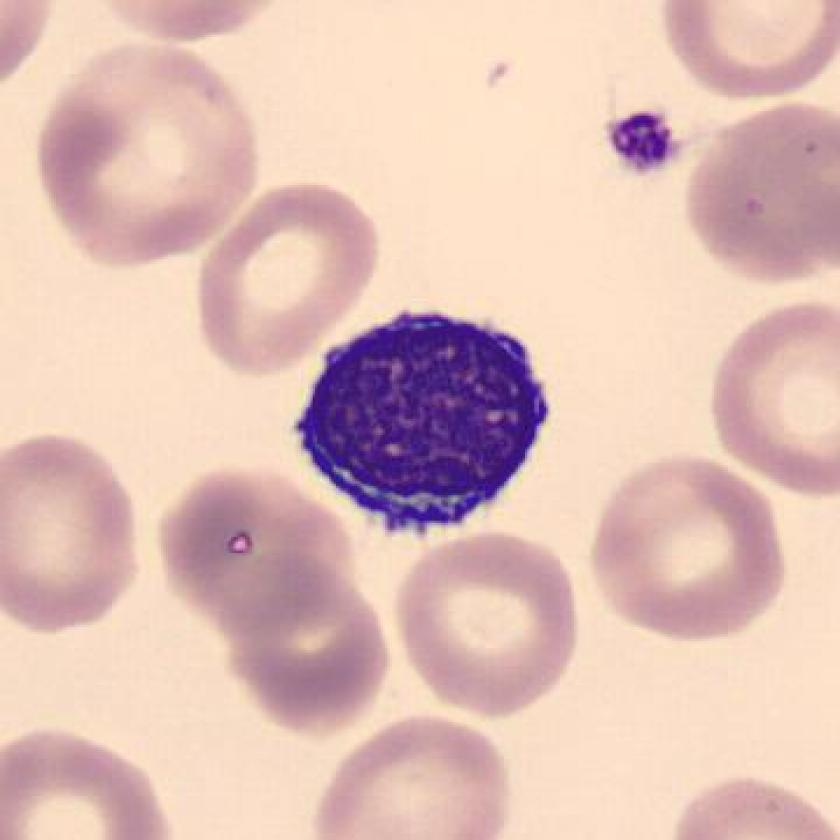lymphocyte: (277, 288, 571, 547)
